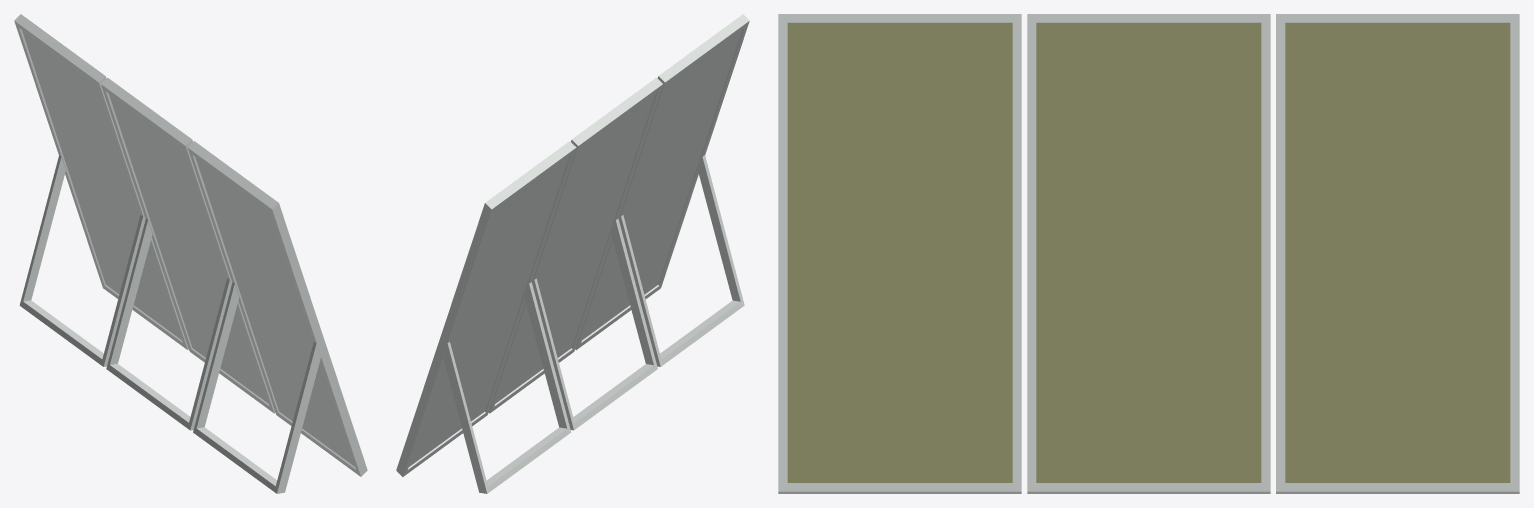
3 views of the same model, side by side, from view 1: azimuth 30°, elevation 25°; view 2: azimuth 150°, elevation 25°; view 3: azimuth 270°, elevation 25° (orthographic). The views are drawn at different scales.
Parts seen in each view (by area): view 1: G:\FFXIV-MapTools\exports\e3ec\bg\ex2\02_est_e3\evt\e3ec\bgp; view 2: G:\FFXIV-MapTools\exports\e3ec\bg\ex2\02_est_e3\evt\e3ec\bgp; view 3: G:\FFXIV-MapTools\exports\e3ec\bg\ex2\02_est_e3\evt\e3ec\bgp (×2).
Part boxes in pixels (left/top/right/bottom): G:\FFXIV-MapTools\exports\e3ec\bg\ex2\02_est_e3\evt\e3ec\bgp: left=14, top=14, right=367, bottom=493; G:\FFXIV-MapTools\exports\e3ec\bg\ex2\02_est_e3\evt\e3ec\bgp: left=396, top=14, right=749, bottom=493; G:\FFXIV-MapTools\exports\e3ec\bg\ex2\02_est_e3\evt\e3ec\bgp (×2): left=778, top=14, right=1519, bottom=493.
Size of the model in its own units: 0.9041 by 2.66 by 4.23.
